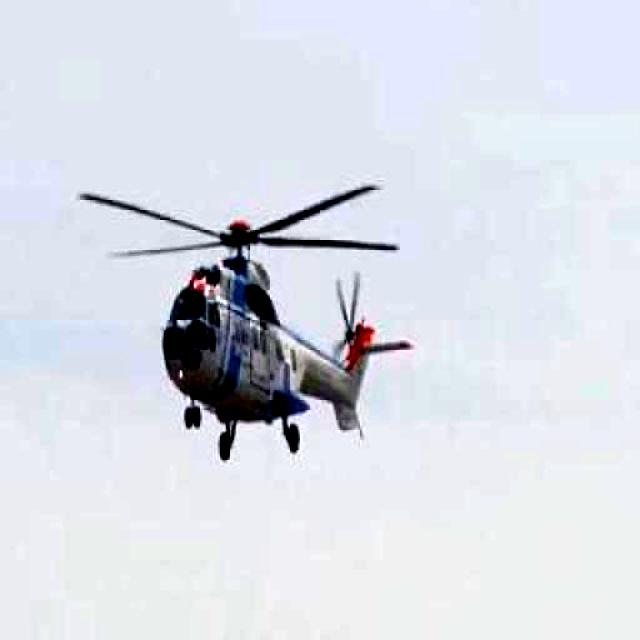drone: (25, 154, 449, 488)
